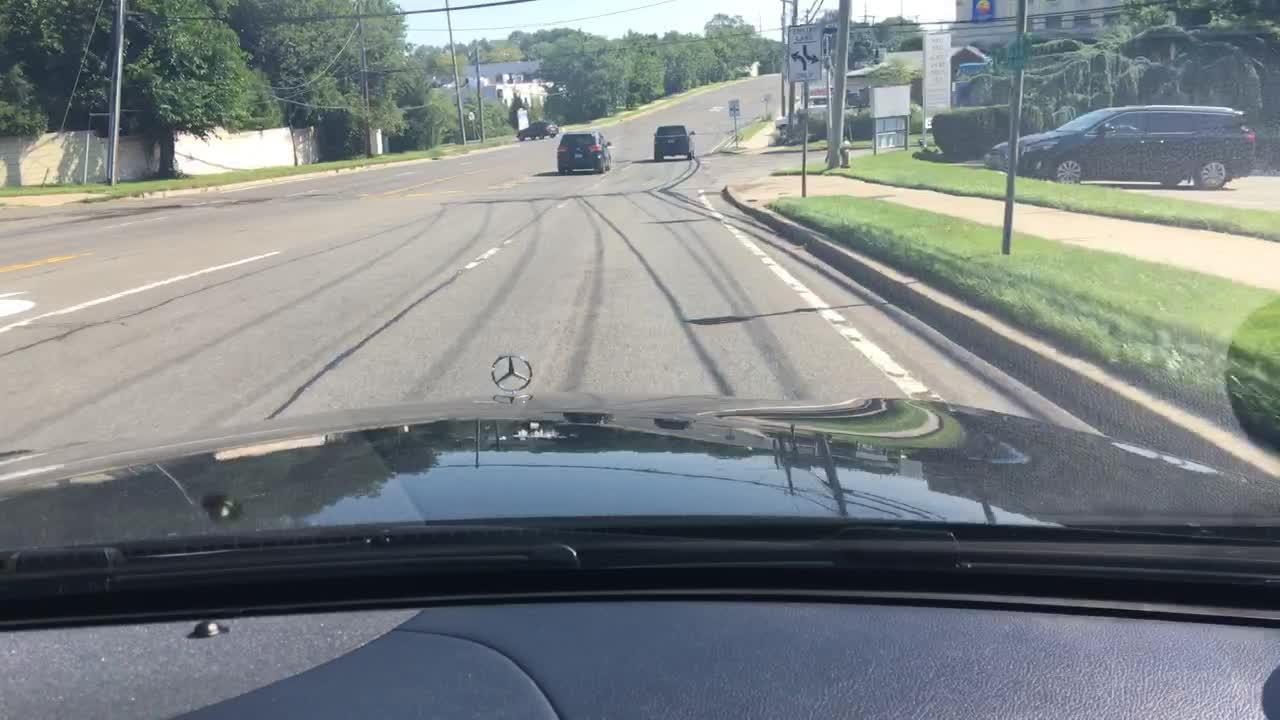Mercedes: (468, 332, 568, 394)
